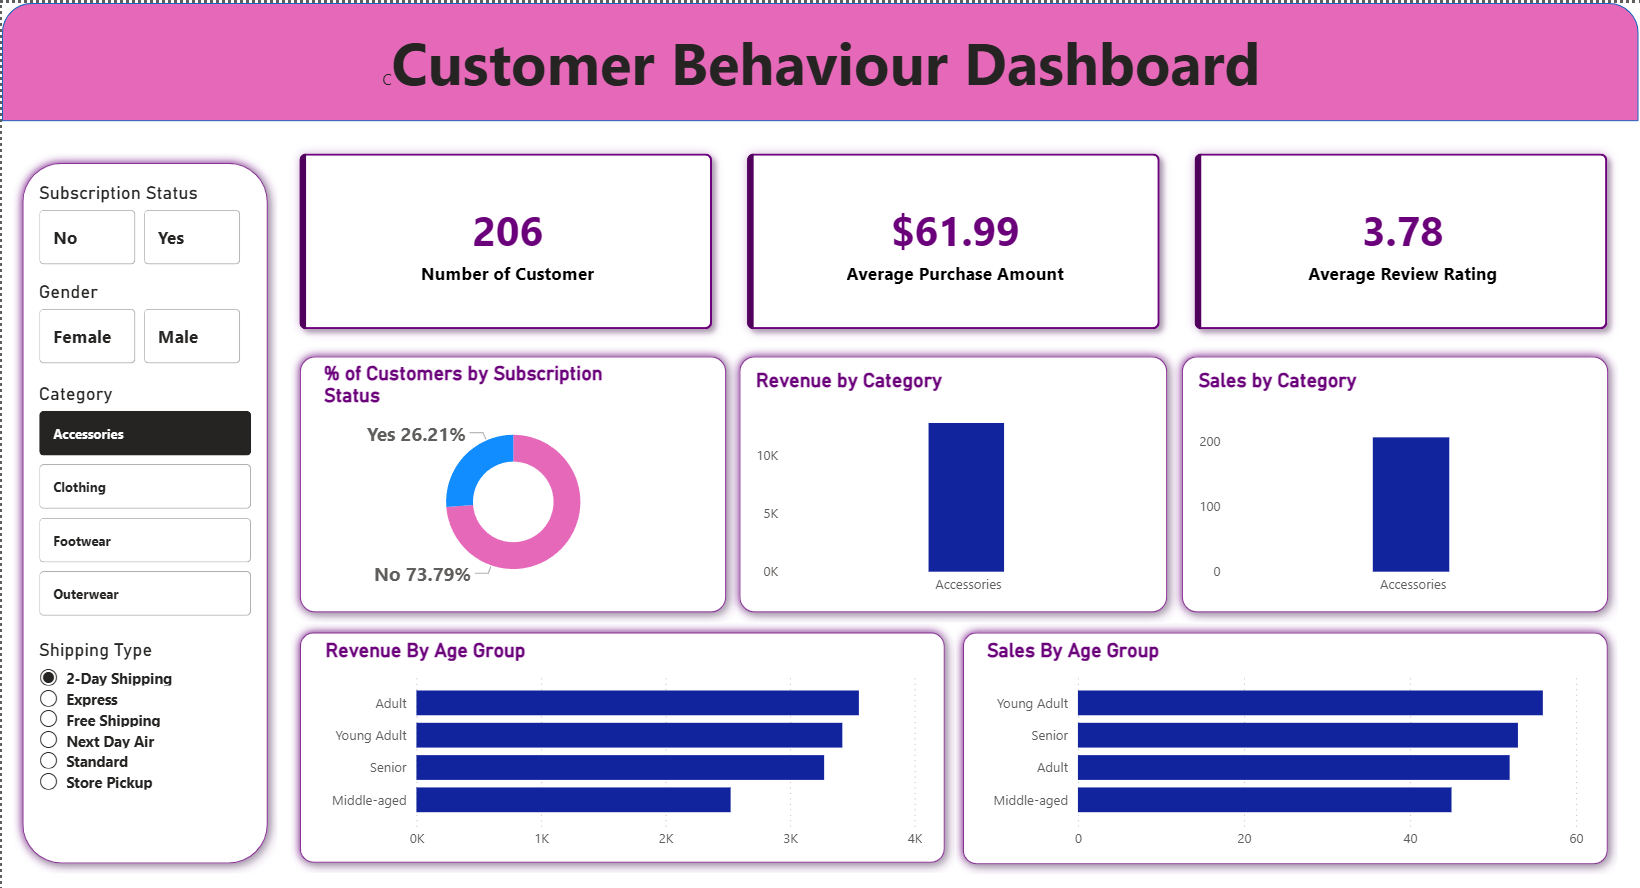

Layout of this report page (visuals, bound fields, positions):
{"tool":"powerbi","page":{"name":"Page 1","canvas":[1500,820],"ordinal":0},"visuals":[{"type":"cardVisual","fields":{"Data":["public customer.Number of Customer","public customer.Average Purchase Amount","public customer.Average Review Rating"]},"box":[242.9,109,1256.1,219.5],"z":0},{"type":"shape","box":[0,0,1499.1,108.4],"z":1000},{"type":"textbox","box":[343.2,12.9,815.4,85.1],"z":2000},{"type":"shape","box":[263.7,314.7,408.6,252.6],"z":3000},{"type":"shape","box":[666.7,314.7,410,252.6],"z":4000},{"type":"shape","box":[1071.2,314.7,408.6,252.6],"z":5000},{"type":"shape","box":[263.7,567.3,608.7,229.1],"z":6000},{"type":"shape","box":[871,567.3,608.7,230.5],"z":7000},{"type":"donutChart","title":"% of Customers by Subscription Status","fields":{"Category":["public customer.subscription_status"],"Y":["CountNonNull(public customer.customer_id)"]},"box":[289.9,328.5,356.1,212.6],"z":8000},{"type":"clusteredColumnChart","title":"Revenue by Category","fields":{"Y":["Sum(public customer.purchase_amount)"],"Category":["public customer.category"]},"box":[686,335.4,368.6,215.3],"z":9000},{"type":"clusteredColumnChart","title":"Sales by Category","fields":{"Y":["CountNonNull(public customer.customer_id)"],"Category":["public customer.category"]},"box":[1090.5,335.4,372.7,215.3],"z":10000},{"type":"shape","box":[9.7,138,242.9,659.8],"z":11000},{"type":"advancedSlicerVisual","fields":{"Values":["public customer.subscription_status"]},"box":[29,162.9,194.6,81.4],"z":12000},{"type":"advancedSlicerVisual","fields":{"Values":["public customer.gender"]},"box":[29,254,194.6,81.4],"z":13000},{"type":"advancedSlicerVisual","fields":{"Values":["public customer.category"]},"box":[29,347.9,204.3,219.5],"z":14000},{"type":"listSlicer","fields":{"Values":["public customer.shipping_type"]},"box":[29,582.5,194.6,189.1],"z":15000},{"type":"clusteredBarChart","title":"Revenue By Age Group","fields":{"Y":["Sum(public customer.purchase_amount)"],"Category":["public customer.age-group"]},"box":[291.3,582.5,556.3,200.2],"z":16000},{"type":"clusteredBarChart","title":"Sales By Age Group","fields":{"Y":["CountNonNull(public customer.customer_id)"],"Category":["public customer.age-group"]},"box":[897.2,582.5,556.3,200.2],"z":17000}]}

Visuals, with their boxes in screenshot pixels (x1, y1, x2, y2), scaled from the page's 1500x820 canvas onto the 1640x888 screenshot:
cardVisual - public customer.Number of Customer x public customer.Average Purchase Amount: bbox=[266, 118, 1639, 356]
shape: bbox=[0, 0, 1639, 117]
textbox: bbox=[375, 14, 1267, 106]
shape: bbox=[288, 341, 735, 614]
shape: bbox=[729, 341, 1177, 614]
shape: bbox=[1171, 341, 1618, 614]
shape: bbox=[288, 614, 954, 862]
shape: bbox=[952, 614, 1618, 864]
"% of Customers by Subscription Status" donutChart: bbox=[317, 356, 706, 586]
"Revenue by Category" clusteredColumnChart: bbox=[750, 363, 1153, 596]
"Sales by Category" clusteredColumnChart: bbox=[1192, 363, 1600, 596]
shape: bbox=[11, 149, 276, 864]
advancedSlicerVisual - public customer.subscription_status: bbox=[32, 176, 244, 265]
advancedSlicerVisual - public customer.gender: bbox=[32, 275, 244, 363]
advancedSlicerVisual - public customer.category: bbox=[32, 377, 255, 614]
listSlicer - public customer.shipping_type: bbox=[32, 631, 244, 836]
"Revenue By Age Group" clusteredBarChart: bbox=[318, 631, 927, 848]
"Sales By Age Group" clusteredBarChart: bbox=[981, 631, 1589, 848]
